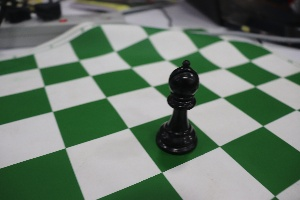black_bishop: (150, 48, 208, 162)
